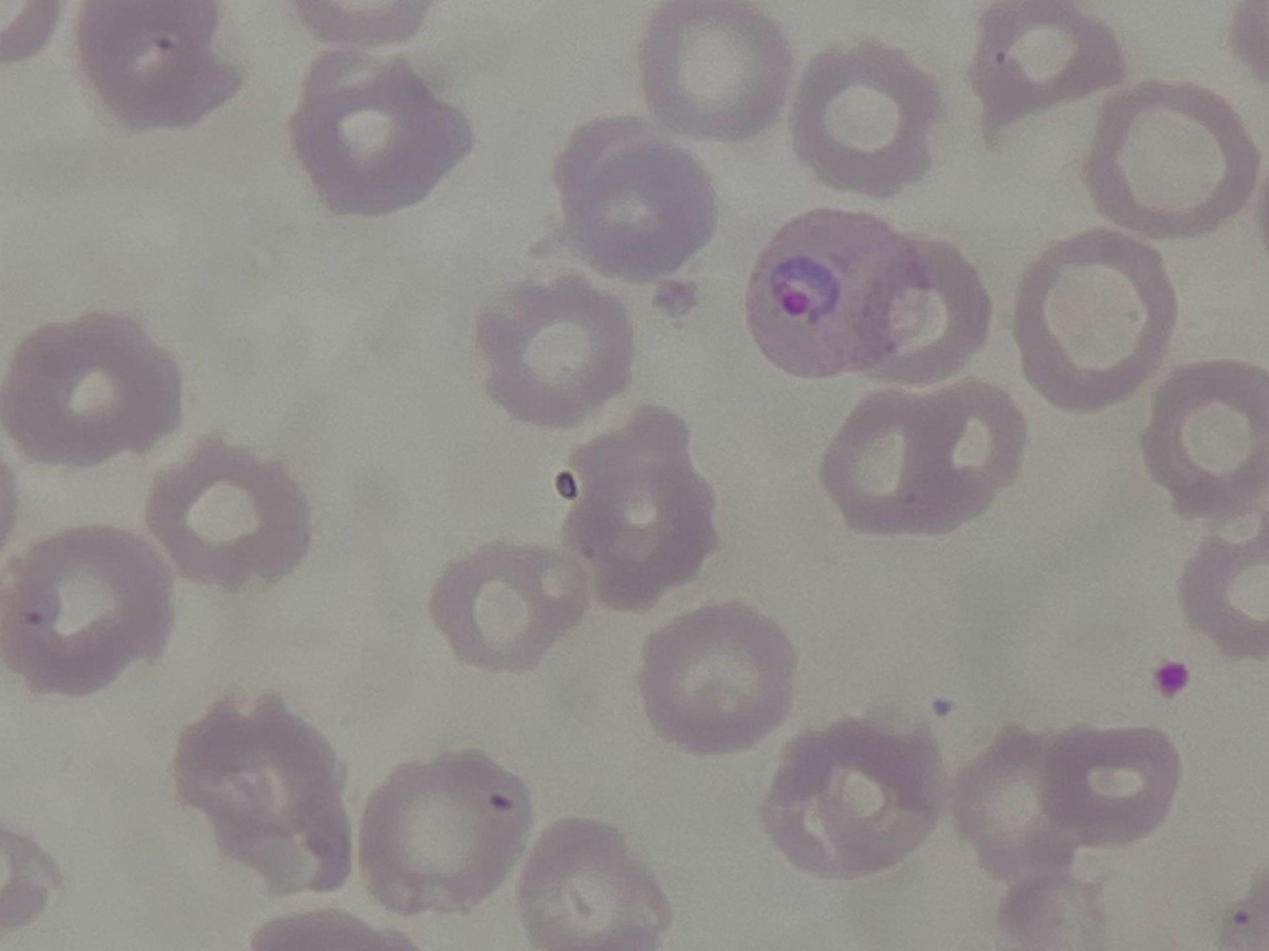Infected: (745, 206, 917, 377)
Uninfected: (174, 695, 357, 903), (749, 703, 949, 891), (1011, 230, 1178, 417), (0, 521, 175, 699), (353, 752, 532, 922), (291, 51, 467, 223), (566, 402, 715, 602), (549, 111, 723, 280), (0, 307, 179, 465), (471, 267, 637, 437), (148, 437, 314, 596), (1088, 80, 1256, 236), (793, 32, 946, 198), (423, 536, 599, 680), (637, 602, 789, 758), (961, 0, 1124, 145), (64, 0, 236, 136), (954, 723, 1093, 891), (634, 0, 792, 142), (511, 816, 676, 951), (1031, 719, 1184, 847), (826, 384, 950, 536), (881, 382, 1021, 515), (864, 236, 990, 380)
